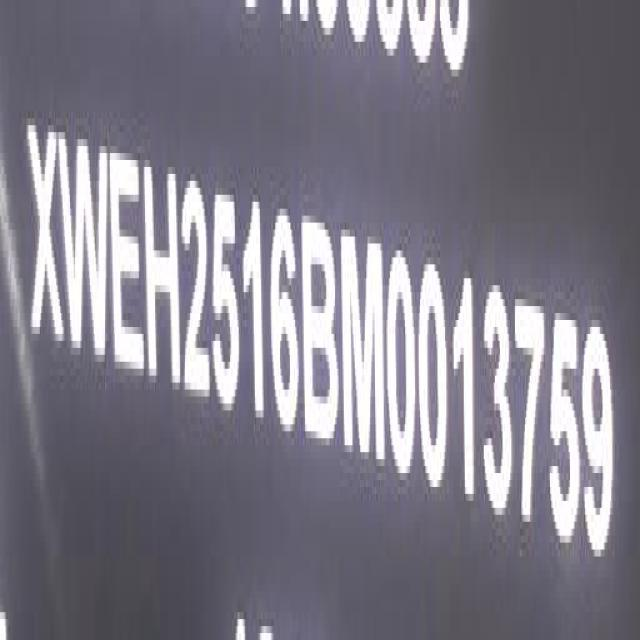0: (389, 239, 420, 485), (418, 253, 449, 498)
1: (455, 268, 477, 508), (244, 185, 264, 428)
2: (183, 169, 213, 412)
3: (482, 280, 513, 524)
5: (547, 300, 580, 550), (212, 175, 240, 418)
6: (269, 196, 301, 438)
7: (518, 287, 546, 537)
9: (583, 326, 618, 564)
B: (300, 207, 342, 454)
E: (110, 141, 145, 388)
H: (144, 151, 180, 400)
M: (341, 222, 386, 475)
W: (61, 120, 112, 376)
X: (25, 108, 64, 362)
